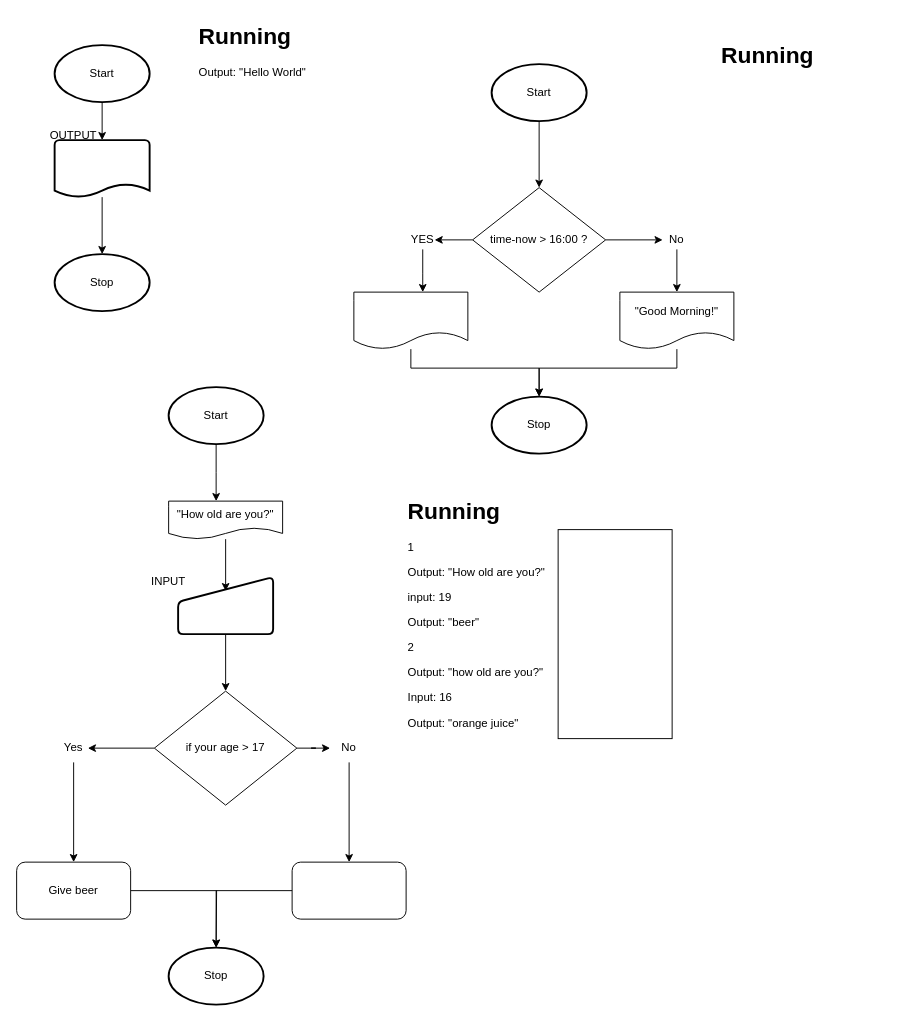
The diagram is 907 pixels wide and 1021 high, and some of its shapes have lost their labels. The shapes that lost their labels are listed below. From the top down, each one's box as (x1, y1, x2, y2) in pixels, then its label:
(53, 139, 150, 198): "Hello World"
(353, 291, 468, 349): "Good Evening!"
(177, 576, 274, 635): age
(557, 529, 672, 739): Age 19 16
(291, 861, 406, 919): Give orange juice
